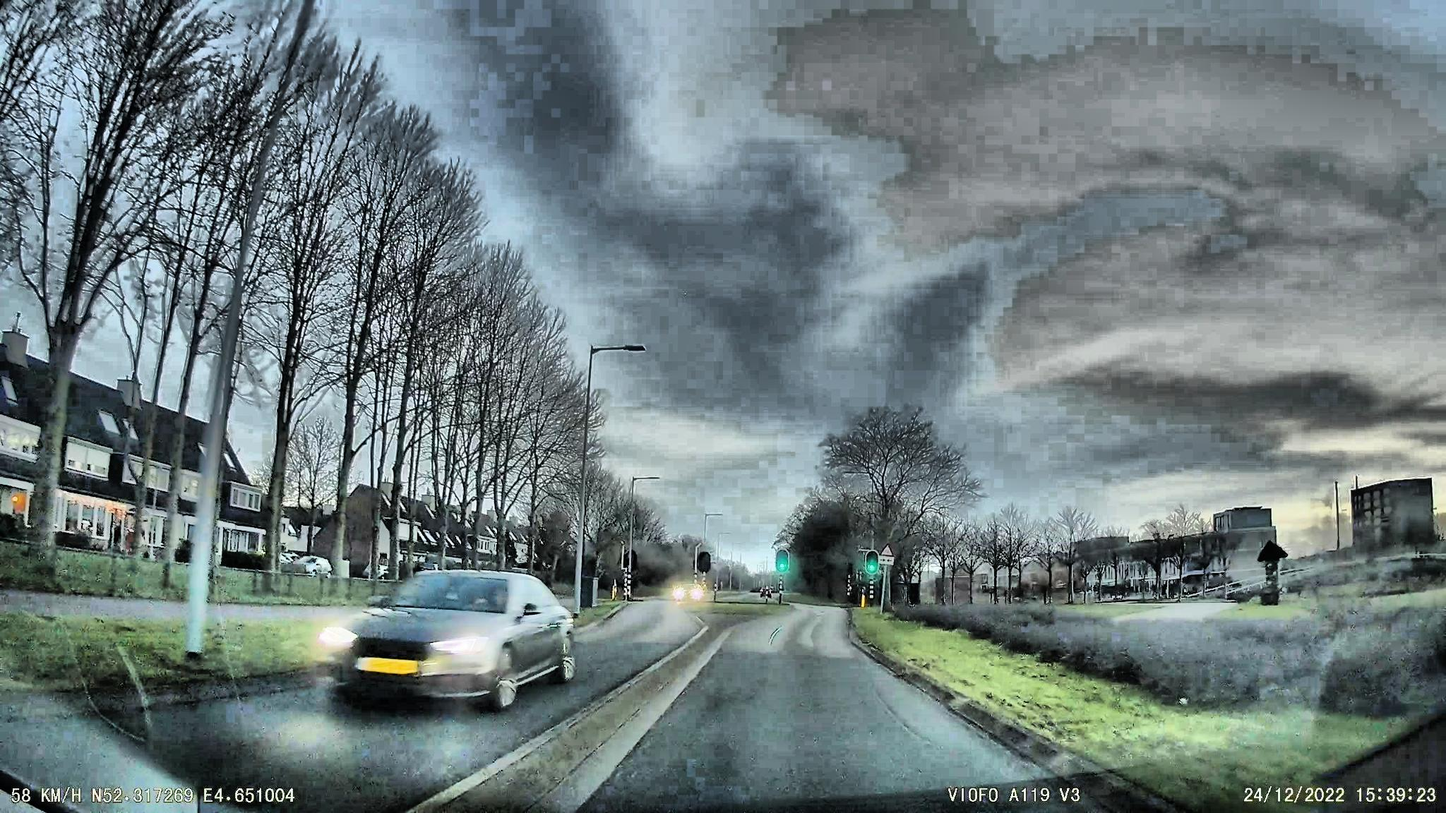Roads: (0, 607, 1168, 813)
